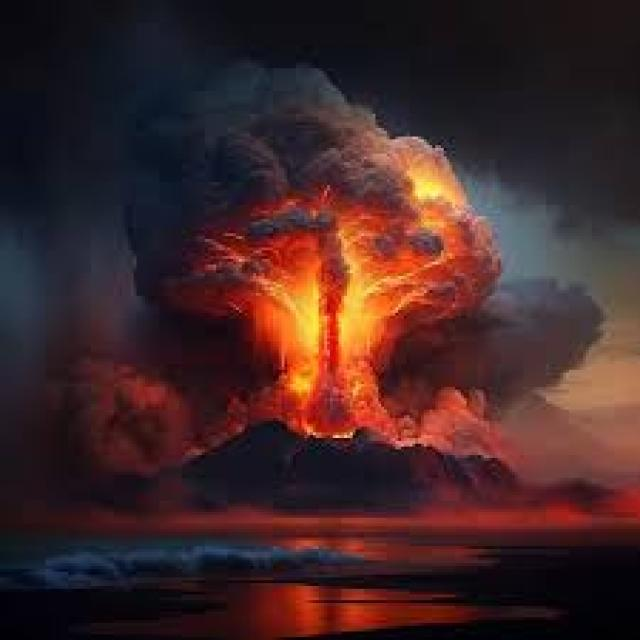explosion: (124, 46, 628, 505)
